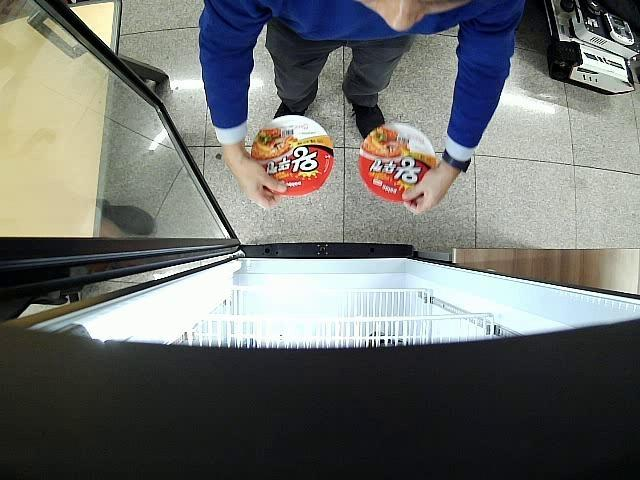10_wangTtukkeong: (252, 115, 334, 196), (360, 123, 438, 202)
